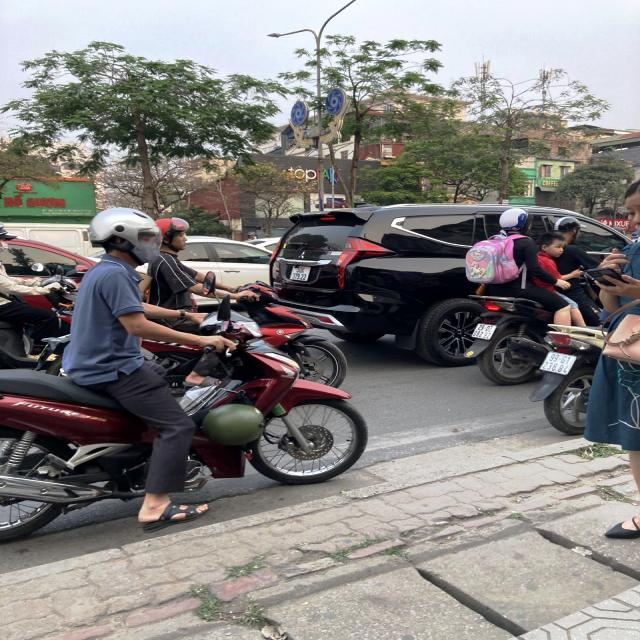license_plate: (536, 349, 583, 380), (470, 322, 501, 343), (288, 265, 316, 284)
